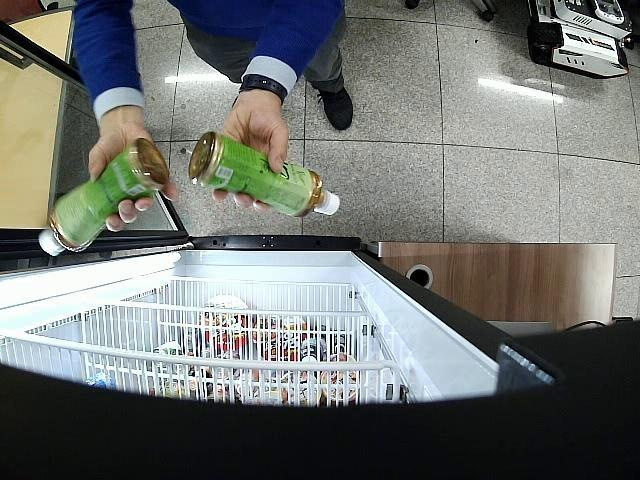19_17cha: (40, 139, 168, 256), (189, 132, 340, 218)
